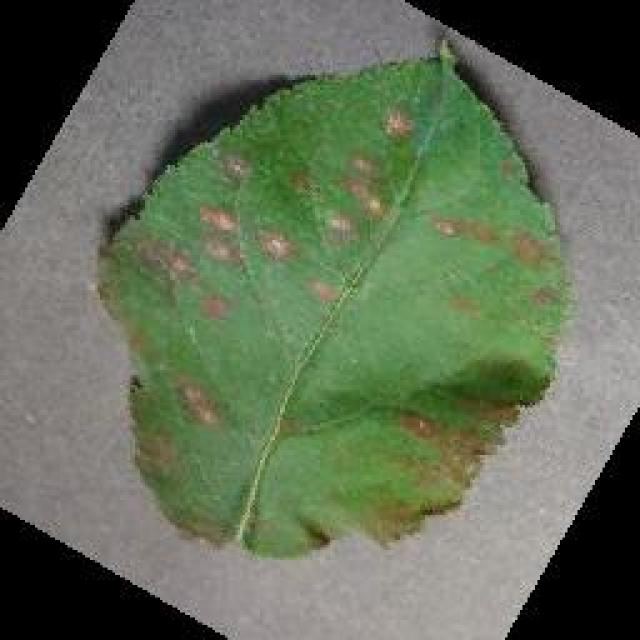apple rust disease: (92, 35, 572, 560)
